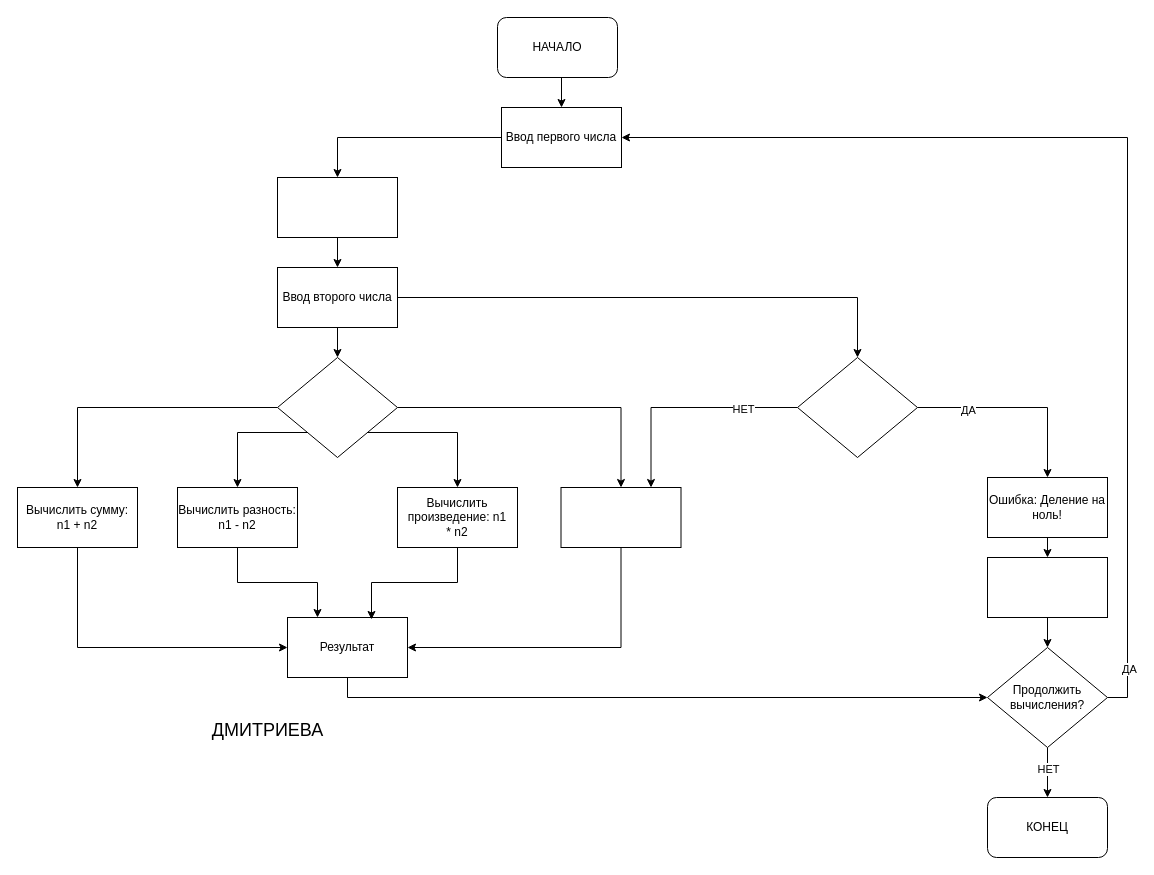
This 1154x875 diagram has some shape labels left out. The shapes that lost their labels are listed below. From the top down, each one's box as (x1, y1, x2, y2) in pixels, then its label:
(276, 176, 398, 238): Ввод операции +,-,*,/.
(276, 356, 398, 458): Проверка операции
(796, 356, 918, 458): Второе число = 0?
(560, 486, 681, 548): Вычислить частное: n1 / n2
(986, 556, 1108, 618): Сбросить калькулятор
